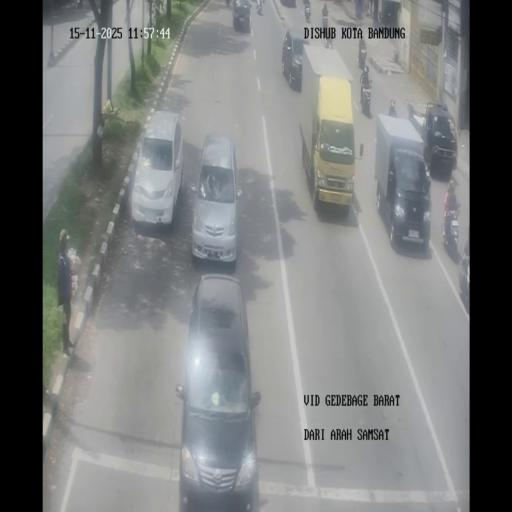car: (175, 274, 260, 507), (191, 132, 242, 265), (131, 111, 184, 227), (422, 103, 458, 176), (282, 29, 304, 90), (458, 236, 470, 310), (232, 1, 251, 32)
motorcycle: (442, 203, 460, 259), (360, 79, 372, 117), (358, 43, 367, 69), (406, 99, 414, 119), (324, 29, 332, 48), (304, 1, 311, 22), (322, 12, 328, 32), (256, 1, 264, 15), (363, 0, 369, 18), (378, 10, 383, 23)
truck: (299, 60, 355, 217), (374, 114, 430, 249)
